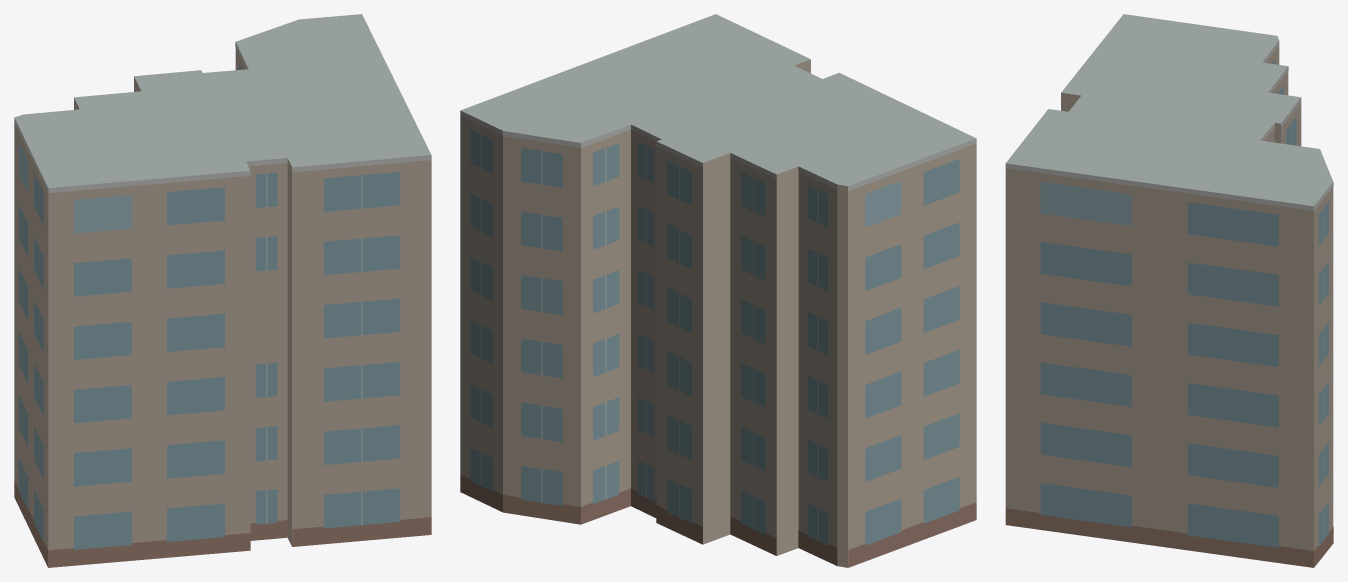
Rendered from survey-upis-32856151.glb.
3 views of the same model, side by side, from view 1: azimuth 30°, elevation 25°; view 2: azimuth 150°, elevation 25°; view 3: azimuth 270°, elevation 25° (orthographic). The views are drawn at different scales.
Visible parts, largest first — view 1: survey-upis-32856151.tmp; view 2: survey-upis-32856151.tmp; view 3: survey-upis-32856151.tmp.
Part boxes in pixels (left/top/right/bottom): survey-upis-32856151.tmp: left=14, top=14, right=431, bottom=567; survey-upis-32856151.tmp: left=460, top=14, right=976, bottom=567; survey-upis-32856151.tmp: left=1005, top=14, right=1333, bottom=567.
Size of the model in its own units: 20.87 by 18.3 by 15.04.
